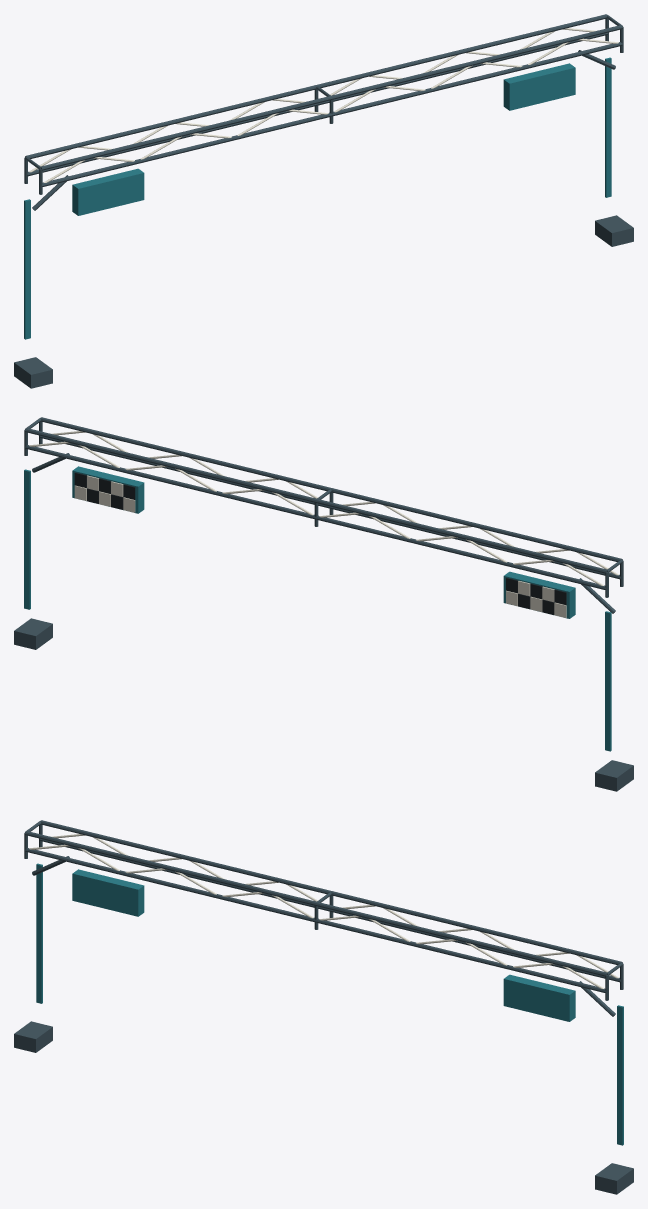
File: gantry_detail.glb
3 views of the same model, one above another, from view 1: azimuth 30°, elevation 25°; view 2: azimuth 150°, elevation 25°; view 3: azimuth 330°, elevation 25° (orthographic).
Parts seen in each view (by area): view 1: GantryDetail; view 2: GantryDetail; view 3: GantryDetail.
Part boxes in pixels (x1=…): GantryDetail: x1=14, y1=14, x2=633, y2=388; GantryDetail: x1=14, y1=417, x2=633, y2=791; GantryDetail: x1=14, y1=820, x2=633, y2=1194.
Size of the model in its own units: 27.4 by 9.49 by 1.35.
